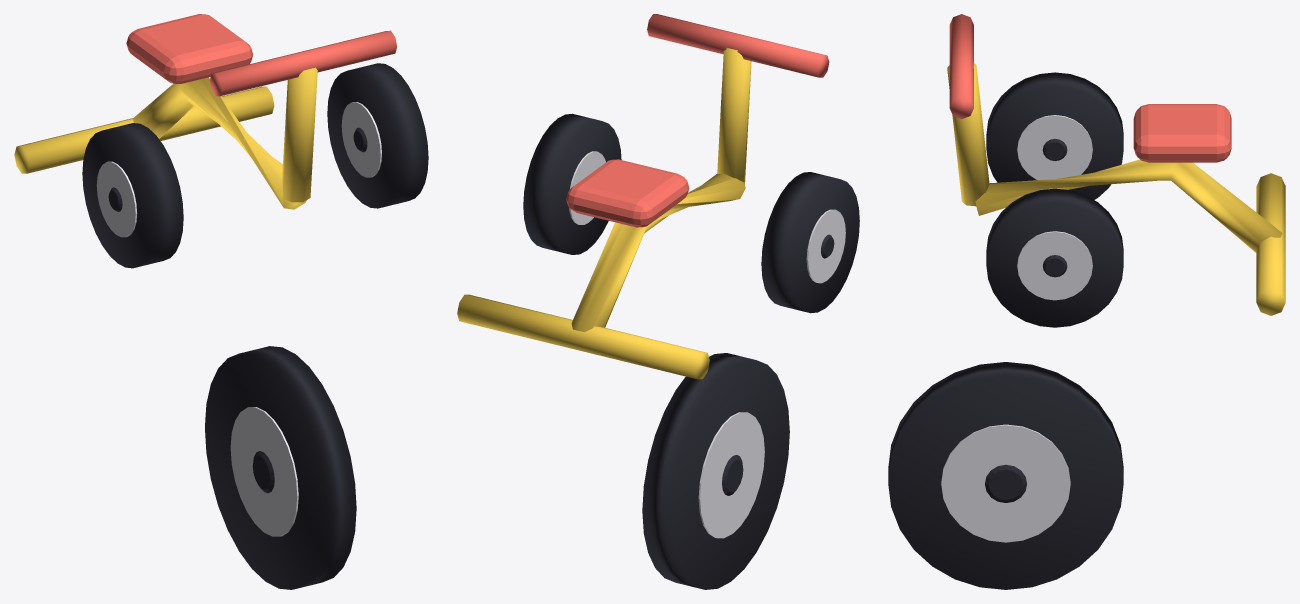
File: Car_Trike.fbx
3 renders of one model, left to right at view 1: azimuth 30°, elevation 25°; view 2: azimuth 150°, elevation 25°; view 3: azimuth 270°, elevation 25°, orthographic. The views are drawn at different scales.
Visible parts, largest first — view 1: Wheel_F, Car_Trike, Wheel_RL, Wheel_RR; view 2: Wheel_F, Car_Trike, Wheel_RL, Wheel_RR; view 3: Wheel_F, Car_Trike, Wheel_RR, Wheel_RL.
Boxes of the visible parts, box(x1,y1,x2,y2) form: Wheel_F: box(205, 346, 356, 589); Car_Trike: box(14, 14, 397, 209); Wheel_RL: box(82, 123, 183, 268); Wheel_RR: box(327, 63, 428, 208); Wheel_F: box(642, 353, 789, 589); Car_Trike: box(457, 14, 829, 379); Wheel_RL: box(761, 172, 859, 313); Wheel_RR: box(523, 113, 621, 254); Wheel_F: box(888, 362, 1123, 589); Car_Trike: box(947, 14, 1285, 315); Wheel_RR: box(986, 188, 1123, 327); Wheel_RL: box(986, 72, 1123, 199).
Bounding box in the file's own units: 0.6482 × 1.18 × 0.81.
